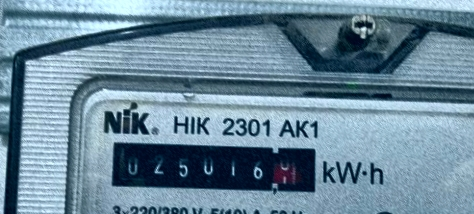0: (204, 154, 219, 177), (128, 155, 142, 177), (280, 152, 293, 172)
1: (229, 154, 241, 179), (282, 175, 290, 186)
2: (154, 153, 168, 176)
5: (179, 157, 191, 178)
6: (253, 158, 267, 183)
screen: (104, 132, 328, 202)
